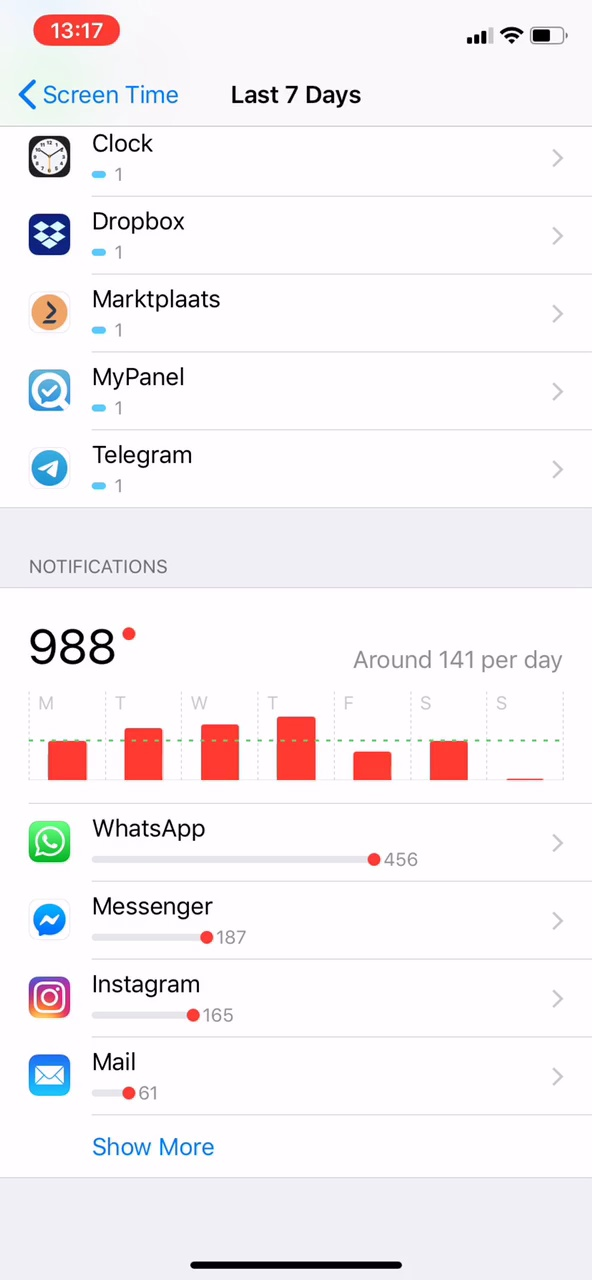not_app: (18, 808, 462, 880), (17, 883, 331, 961), (22, 963, 320, 1039), (20, 1039, 273, 1114)
not_over: (1, 538, 209, 683)
pick_app: (18, 200, 286, 275), (17, 275, 286, 349), (22, 353, 262, 432), (20, 127, 273, 200), (20, 438, 261, 508)
week: (217, 71, 374, 111)
